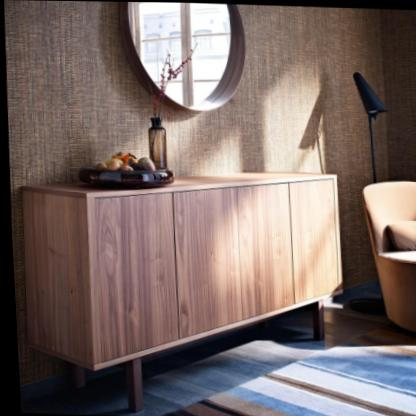Sofa: (357, 173, 416, 330)
